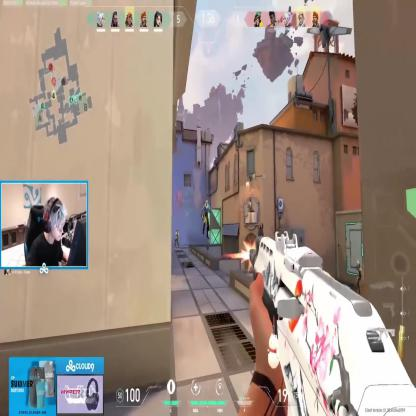enemy: (200, 199, 212, 239), (174, 229, 179, 247)
enemy_head: (205, 200, 208, 208), (176, 229, 178, 232)
